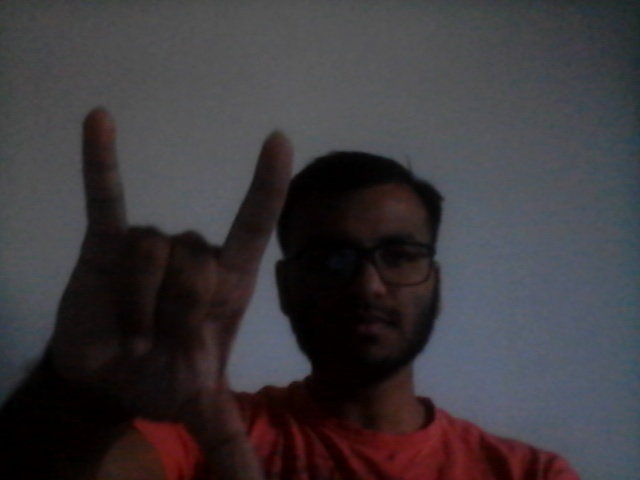I Love You: (47, 94, 294, 478)
